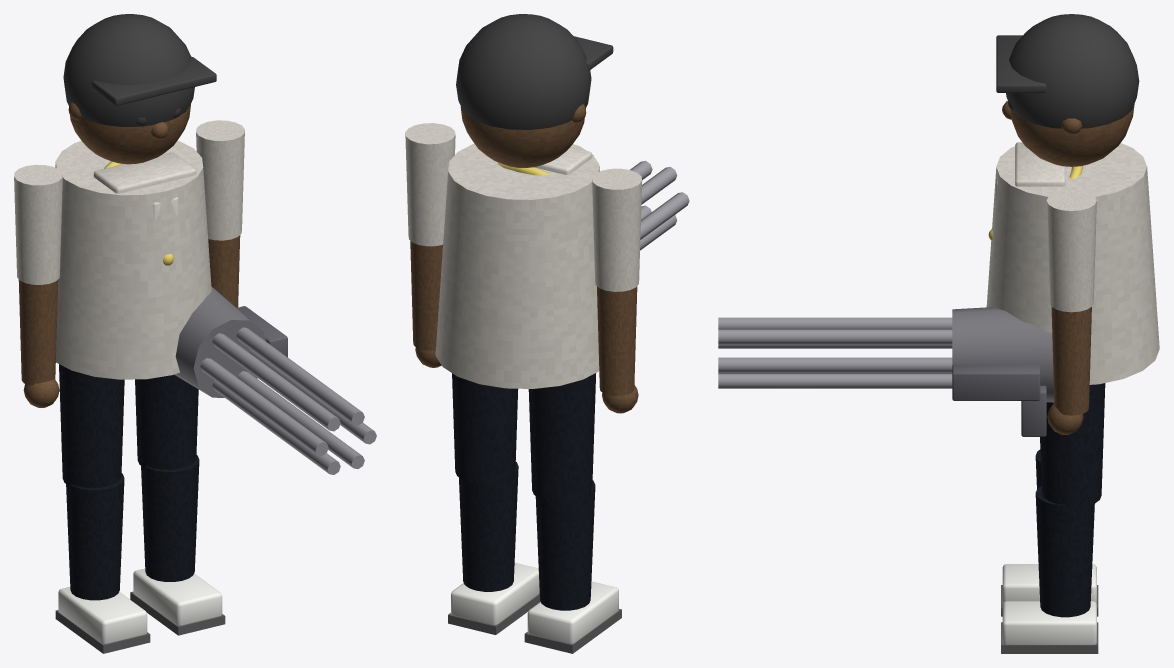
Rendered from player.glb.
3 renders of one model, left to right at view 1: azimuth 30°, elevation 25°; view 2: azimuth 150°, elevation 25°; view 3: azimuth 270°, elevation 25°, orthographic. The views are drawn at different scales.
Parts seen in each view (by area): view 1: body, cap, thighL, shinL, shinR, thighR, sleeveL, sleeveR, mgBody, foreL, skull, shoeR (+14 smaller); view 2: body, cap, thighL, thighR, shinL, shinR, sleeveL, sleeveR, foreL, skull, shoeL, foreR (+8 smaller); view 3: body, cap, shinR, sleeveR, thighR, mgBody, foreR, barrel0, barrel1, skull, barrel5, shoeR (+9 smaller).
Boxes of the visible parts, x1=… form: body: x1=55, y1=140, x2=211, y2=379; cap: x1=63, y1=14, x2=194, y2=126; thighL: x1=59, y1=364, x2=124, y2=487; shinL: x1=66, y1=473, x2=124, y2=600; shinR: x1=141, y1=455, x2=199, y2=581; thighR: x1=135, y1=374, x2=198, y2=469; sleeveL: x1=14, y1=164, x2=62, y2=284; sleeveR: x1=196, y1=120, x2=244, y2=240; mgBody: x1=174, y1=286, x2=265, y2=397; foreL: x1=18, y1=279, x2=58, y2=385; skull: x1=70, y1=104, x2=190, y2=164; shoeR: x1=133, y1=568, x2=222, y2=625; body: x1=435, y1=143, x2=599, y2=388; cap: x1=456, y1=14, x2=591, y2=129; thighL: x1=528, y1=373, x2=595, y2=502; thighR: x1=452, y1=373, x2=518, y2=483; shinL: x1=535, y1=480, x2=595, y2=610; shinR: x1=459, y1=461, x2=518, y2=591; sleeveL: x1=592, y1=168, x2=642, y2=291; sleeveR: x1=405, y1=123, x2=455, y2=246; foreL: x1=597, y1=286, x2=637, y2=396; skull: x1=460, y1=107, x2=585, y2=167; shoeL: x1=527, y1=581, x2=618, y2=643; foreR: x1=410, y1=241, x2=442, y2=350; body: x1=986, y1=143, x2=1159, y2=384; cap: x1=1006, y1=14, x2=1139, y2=128; shinR: x1=1035, y1=485, x2=1094, y2=617; sleeveR: x1=1046, y1=190, x2=1096, y2=312; thighR: x1=1040, y1=383, x2=1105, y2=507; mgBody: x1=952, y1=307, x2=1054, y2=402; foreR: x1=1051, y1=307, x2=1091, y2=415; barrel0: x1=718, y1=357, x2=952, y2=372; barrel1: x1=718, y1=329, x2=952, y2=344; skull: x1=1010, y1=104, x2=1134, y2=166; barrel5: x1=718, y1=374, x2=952, y2=388; shoeR: x1=1002, y1=601, x2=1096, y2=644.
Bounding box in the file's own units: 0.84 × 2.12 × 1.4.
Materials: 12 (3 with a texture image).
